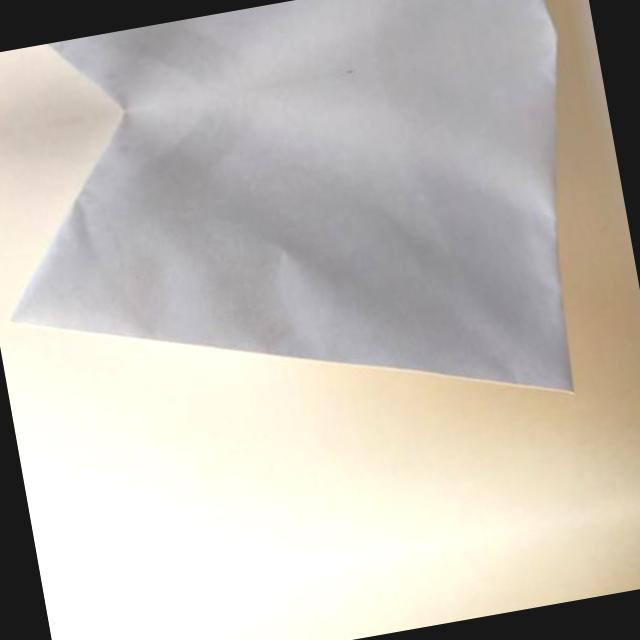paper: (0, 34, 617, 486), (0, 0, 555, 135)
